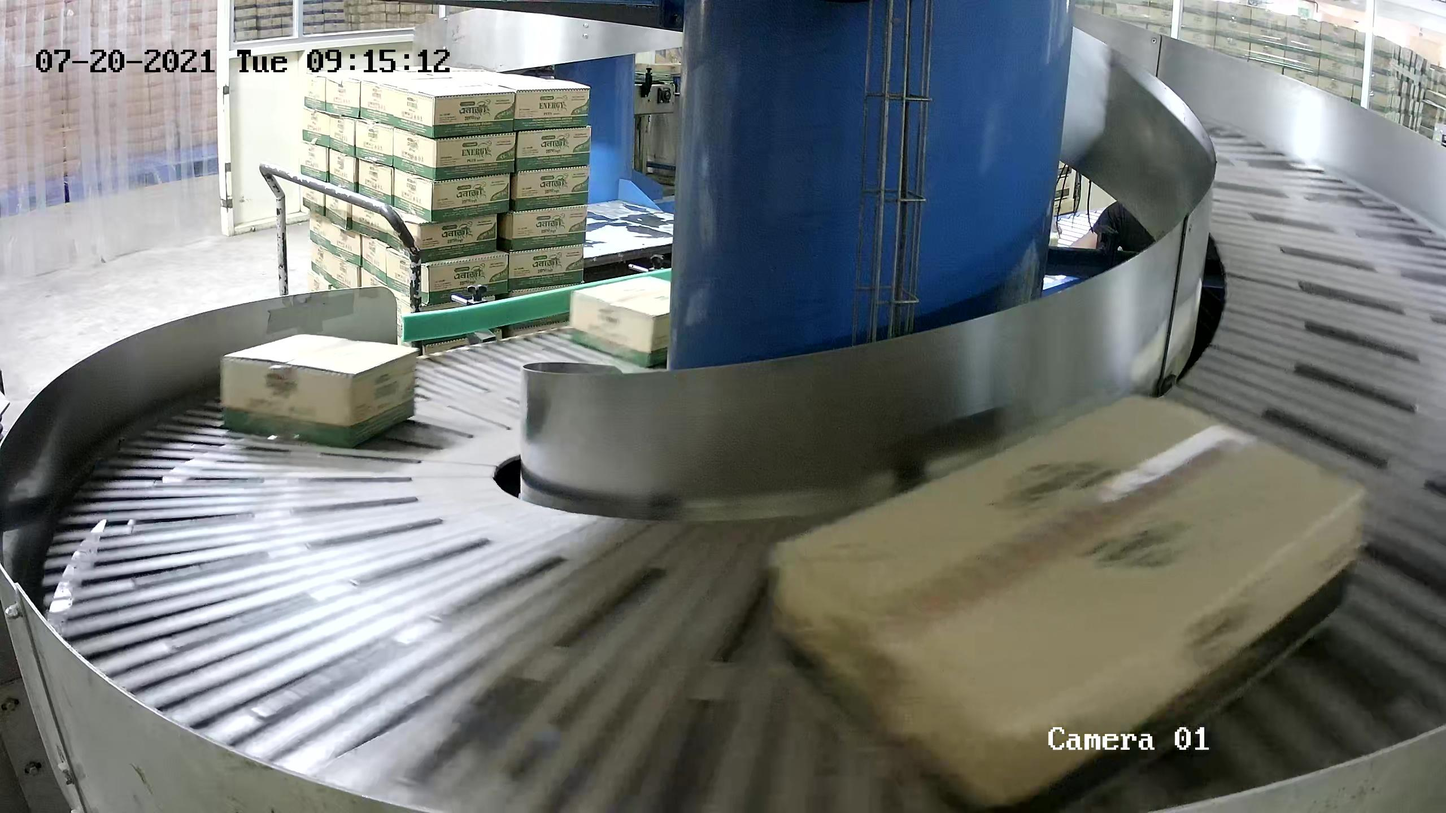Box: (764, 390, 1368, 813), (219, 332, 420, 448), (569, 275, 671, 369)
